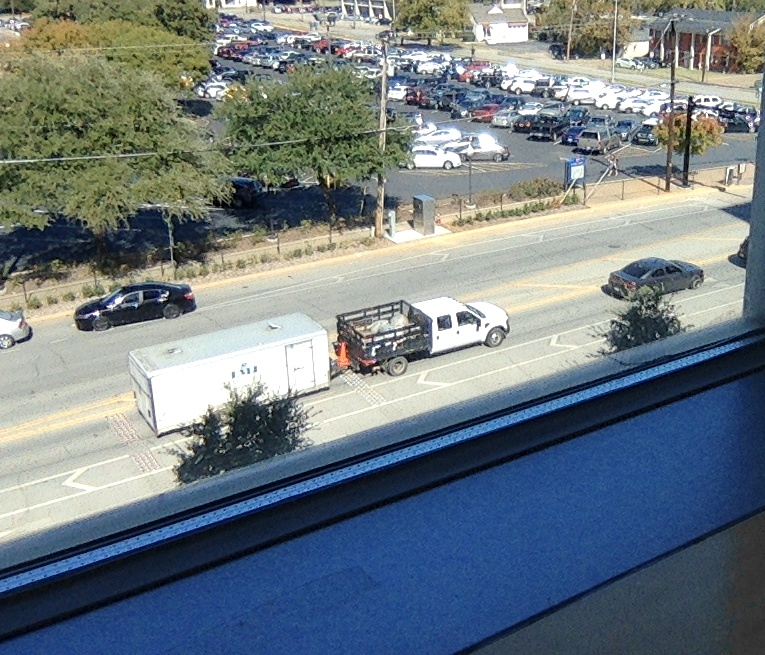car: (300, 300, 465, 392)
